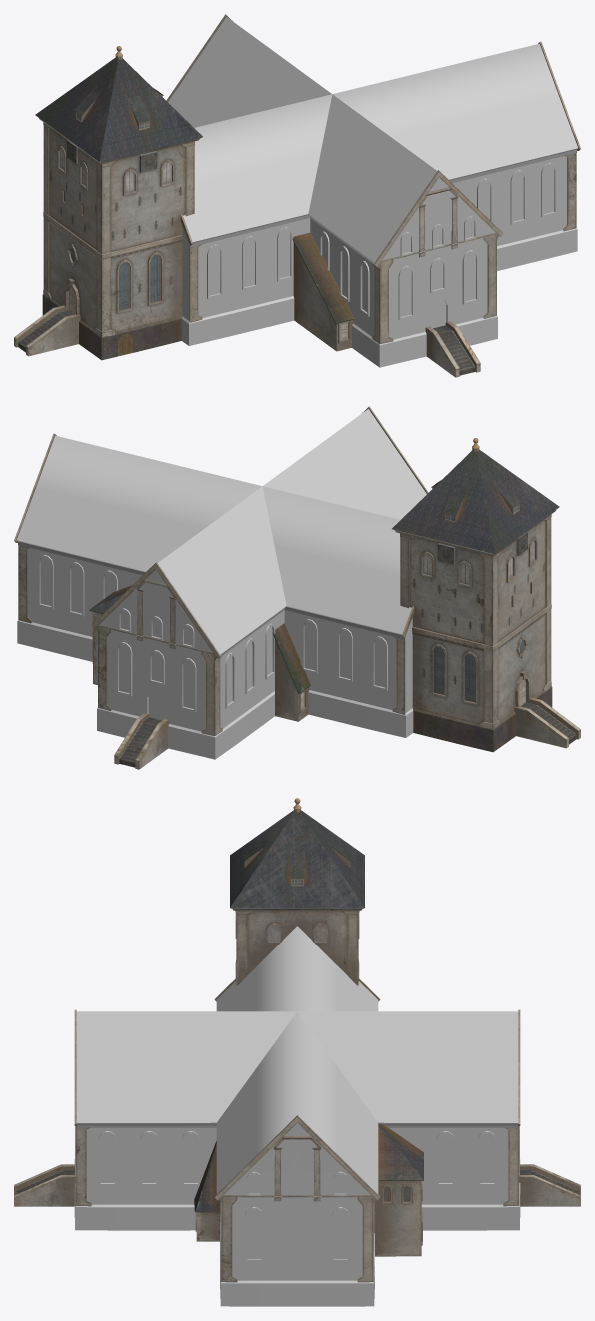
3 views of the same model, one above another, from view 1: azimuth 30°, elevation 25°; view 2: azimuth 150°, elevation 25°; view 3: azimuth 270°, elevation 25° (orthographic). The views are drawn at different scales.
Visible parts, largest first — view 1: Hovedbygg Domkirken_23 - Default_0, object 1; view 2: Hovedbygg Domkirken_23 - Default_0, object 1; view 3: Hovedbygg Domkirken_23 - Default_0, object 1.
Boxes of the visible parts, bbox=[...] form: Hovedbygg Domkirken_23 - Default_0: bbox=[168, 17, 577, 367]; object 1: bbox=[14, 14, 580, 377]; Hovedbygg Domkirken_23 - Default_0: bbox=[17, 409, 426, 759]; object 1: bbox=[14, 406, 580, 769]; Hovedbygg Domkirken_23 - Default_0: bbox=[74, 926, 520, 1306]; object 1: bbox=[14, 798, 580, 1282].
Bounding box in the file's own units: 6240 × 3222 × 5645.
